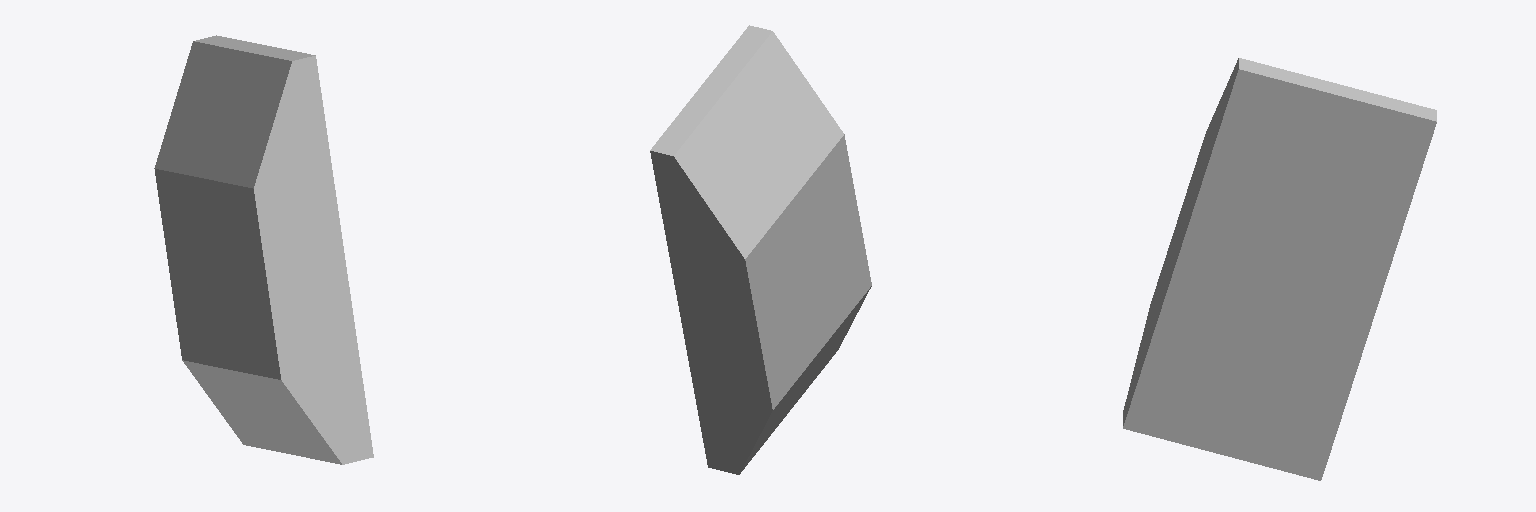
The model's file is original-100.obj.
3 renders of one model, left to right at view 1: azimuth 30°, elevation 25°; view 2: azimuth 150°, elevation 25°; view 3: azimuth 270°, elevation 25°, orthographic.
Parts seen in each view (by area): view 1: #ID588; view 2: #ID588; view 3: #ID588.
Part boxes in pixels (x1,y1,x2,y2): #ID588: (154,35,373,464); #ID588: (650,25,871,474); #ID588: (1123,58,1436,480).
Size of the model in its own units: 0.0026 by 0.0131 by 0.0091.